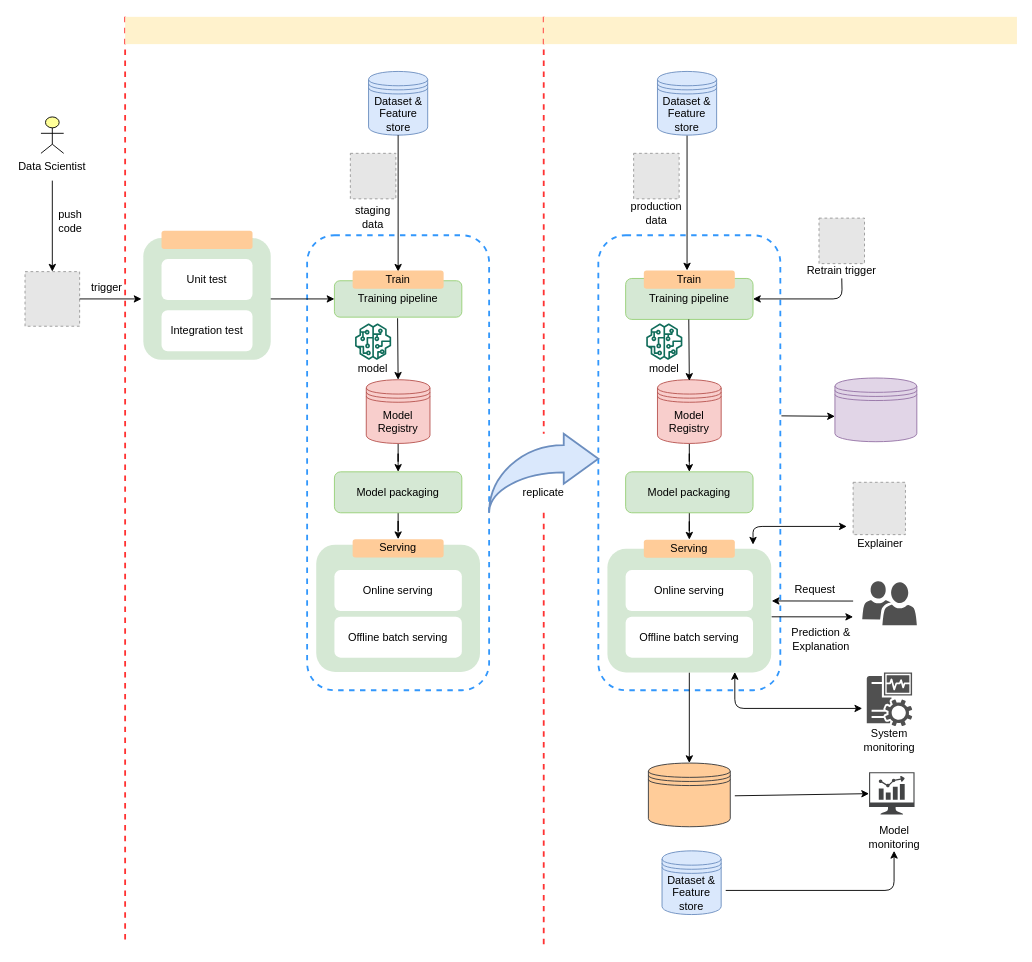
The diagram is 1032 pixels wide and 962 high, and some of its shapes have lost their labels. Grey dashed boxes stand in for pictures. Each missing label, with the box of its shape:
ML metadata: (834, 377, 917, 442)
Production Environment: (543, 16, 1016, 44)
Serving logs: (647, 762, 730, 827)
Staging Environment: (125, 16, 543, 44)
Test: (161, 230, 252, 248)
